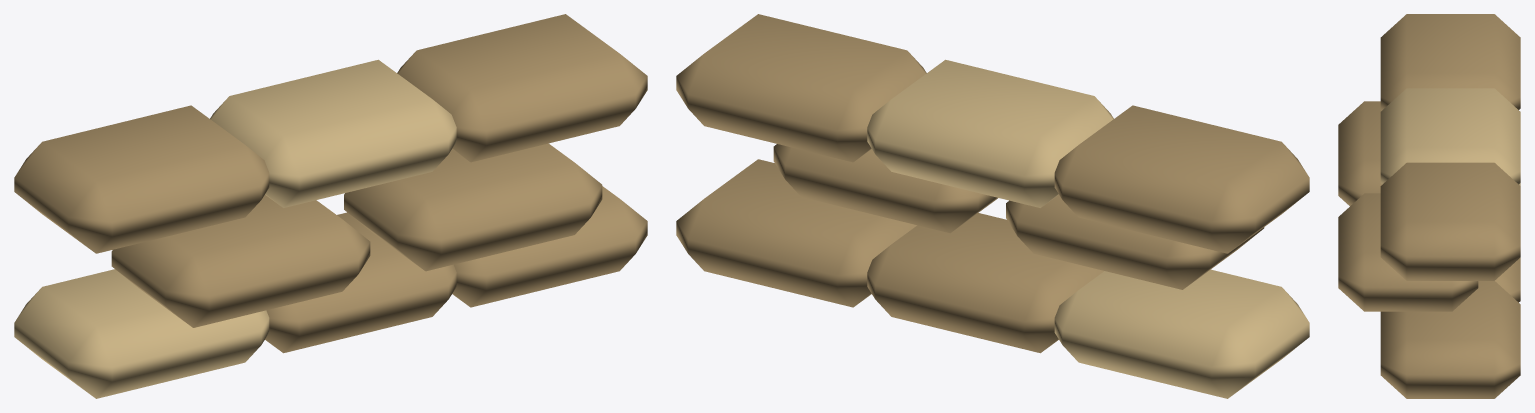
File: sandbag.glb
3 views of the same model, side by side, from view 1: azimuth 30°, elevation 25°; view 2: azimuth 150°, elevation 25°; view 3: azimuth 270°, elevation 25° (orthographic). The views are drawn at different scales.
Visible parts, largest first — view 1: stacked sandbag.005, stacked sandbag.007, stacked sandbag.006, stacked sandbag.003, stacked sandbag.004, stacked sandbag, stacked sandbag.001, stacked sandbag.002; view 2: stacked sandbag.005, stacked sandbag, stacked sandbag.007, stacked sandbag.006, stacked sandbag.001, stacked sandbag.002, stacked sandbag.003, stacked sandbag.004; view 3: stacked sandbag.007, stacked sandbag.002, stacked sandbag.006, stacked sandbag.005, stacked sandbag.004, stacked sandbag.003, stacked sandbag.001.
Boxes of the visible parts, box(x1,y1,x2,y2) form: stacked sandbag.005: box(14, 105, 269, 253); stacked sandbag.007: box(397, 14, 647, 162); stacked sandbag.006: box(210, 59, 456, 207); stacked sandbag.003: box(111, 195, 370, 327); stacked sandbag.004: box(344, 143, 602, 271); stacked sandbag: box(14, 269, 269, 398); stacked sandbag.001: box(265, 212, 456, 353); stacked sandbag.002: box(452, 186, 647, 307); stacked sandbag.005: box(1054, 105, 1309, 253); stacked sandbag: box(1054, 269, 1309, 398); stacked sandbag.007: box(676, 14, 926, 162); stacked sandbag.006: box(867, 59, 1113, 207); stacked sandbag.001: box(867, 213, 1103, 353); stacked sandbag.002: box(676, 159, 916, 307); stacked sandbag.003: box(1006, 195, 1264, 289); stacked sandbag.004: box(773, 144, 997, 233); stacked sandbag.007: box(1380, 162, 1520, 280); stacked sandbag.002: box(1380, 281, 1520, 398); stacked sandbag.006: box(1380, 88, 1520, 184); stacked sandbag.005: box(1380, 14, 1520, 109); stacked sandbag.004: box(1338, 193, 1478, 311); stacked sandbag.003: box(1338, 101, 1382, 205); stacked sandbag.001: box(1495, 257, 1520, 302).
Size of the model in its own units: 1.67 by 0.6 by 0.56.
